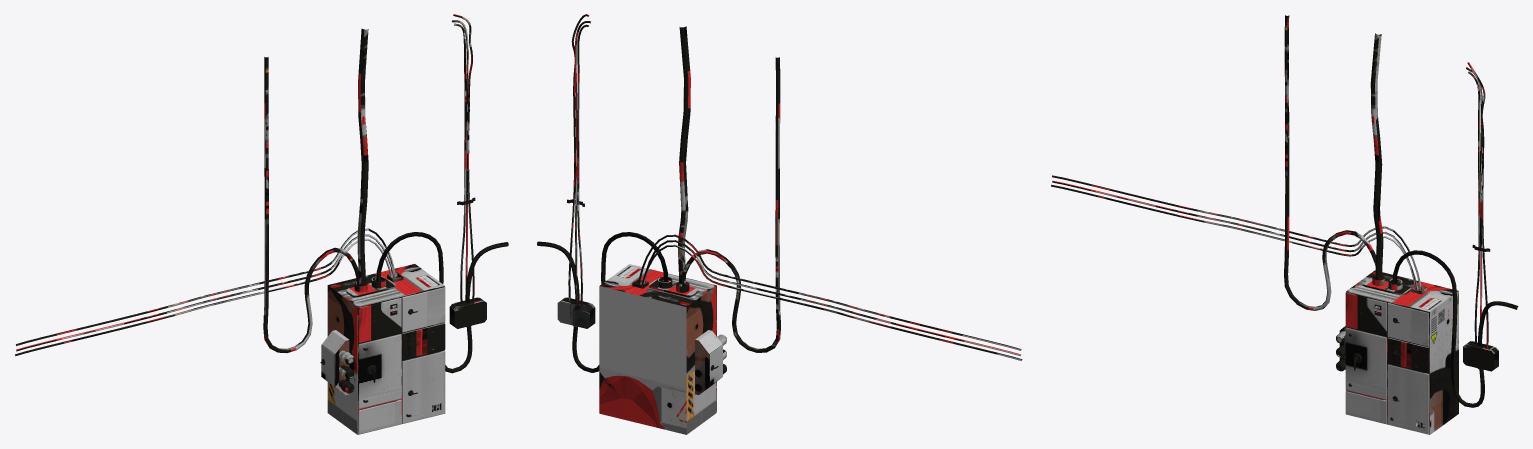
The model's file is electric-box.glb.
The picture shows the model from 3 angles, left to right: view 1: azimuth 30°, elevation 25°; view 2: azimuth 150°, elevation 25°; view 3: azimuth 330°, elevation 25°; orthographic projection. The views are drawn at different scales.
Visible parts, largest first — view 1: Object_1, Object_19, Object_20, Object_15, Object_8, Object_11; view 2: Object_1, Object_19, Object_20, Object_15, Object_8, Object_11; view 3: Object_1, Object_19, Object_20, Object_15, Object_11, Object_8.
Boxes of the visible parts, <box> form: Object_1: <box>327,264,445,434</box>; Object_19: <box>15,20,468,356</box>; Object_20: <box>263,14,474,395</box>; Object_15: <box>376,232,508,373</box>; Object_8: <box>449,297,486,328</box>; Object_11: <box>346,276,395,297</box>; Object_1: <box>599,264,716,434</box>; Object_19: <box>574,21,1022,360</box>; Object_20: <box>568,14,780,394</box>; Object_15: <box>537,232,668,372</box>; Object_8: <box>557,297,595,328</box>; Object_11: <box>649,277,698,297</box>; Object_1: <box>1345,270,1458,434</box>; Object_19: <box>1051,33,1482,344</box>; Object_20: <box>1284,15,1488,359</box>; Object_15: <box>1392,250,1518,407</box>; Object_11: <box>1363,275,1411,295</box>; Object_8: <box>1463,341,1498,371</box>.
Size of the model in its own units: 391 by 300 by 47.8.
9 materials, 9 textured.
